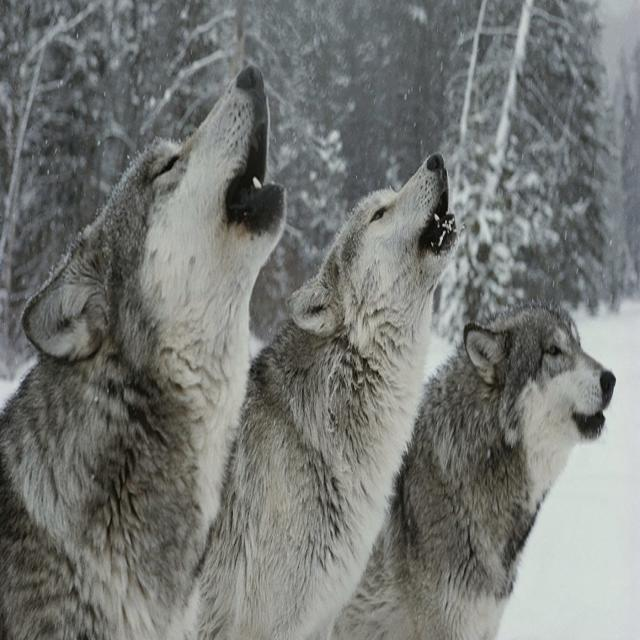wolf: (0, 66, 286, 639), (189, 154, 458, 639), (328, 303, 616, 639)
